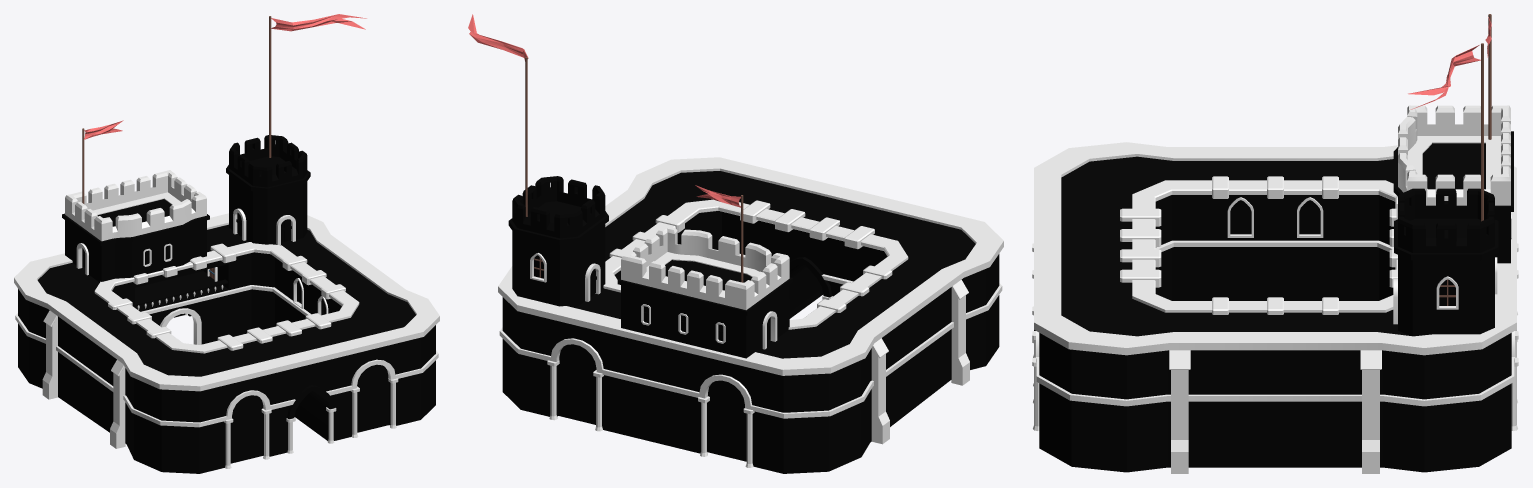
Rendered from fortress_a (without door).fbx.
The picture shows the model from 3 angles, left to right: view 1: azimuth 30°, elevation 25°; view 2: azimuth 150°, elevation 25°; view 3: azimuth 270°, elevation 25°; orthographic projection. The views are drawn at different scales.
Visible parts, largest first — view 1: fortress_a; view 2: fortress_a; view 3: fortress_a.
Part boxes in pixels (x1,y1,x2,y2): fortress_a: (14, 14, 439, 473); fortress_a: (468, 14, 1003, 473); fortress_a: (1032, 14, 1518, 473).
Bounding box in the file's own units: 3229 × 2637 × 2846.
